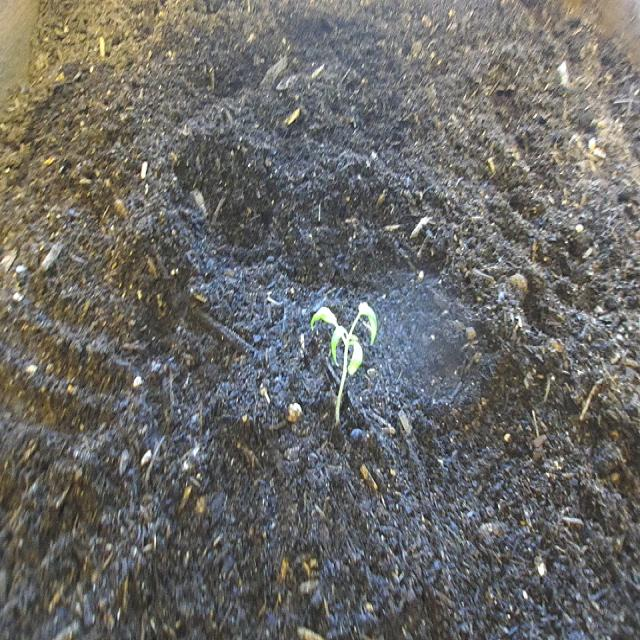Healthy: (299, 279, 387, 448)
